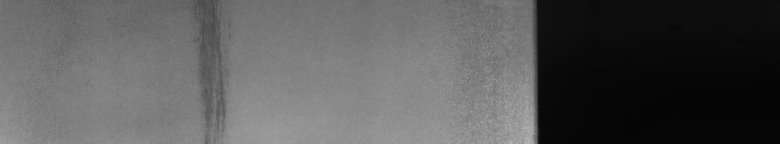hd: (196, 5, 229, 128)
